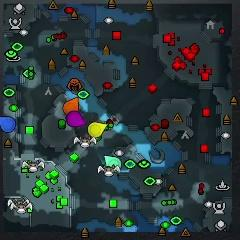p1: (0, 116, 17, 134)
p2: (104, 156, 122, 171)
p3: (66, 111, 86, 127)
p4: (89, 121, 108, 138)
p5: (64, 96, 80, 116)
